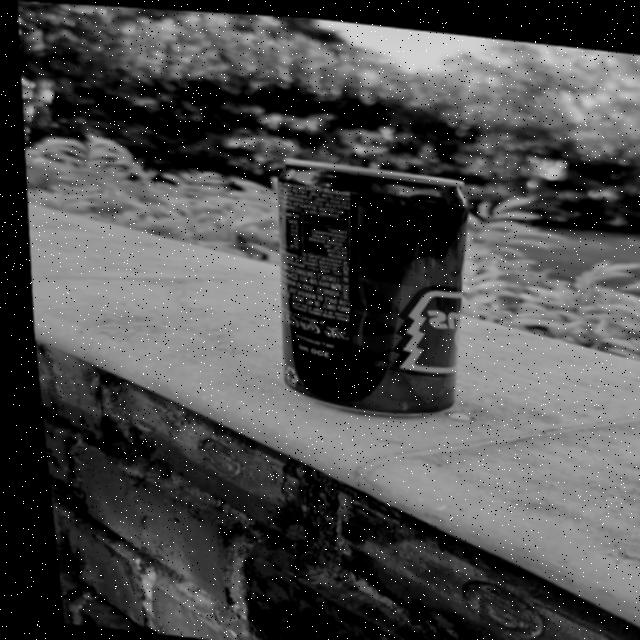Thums Up: (236, 146, 503, 422)
